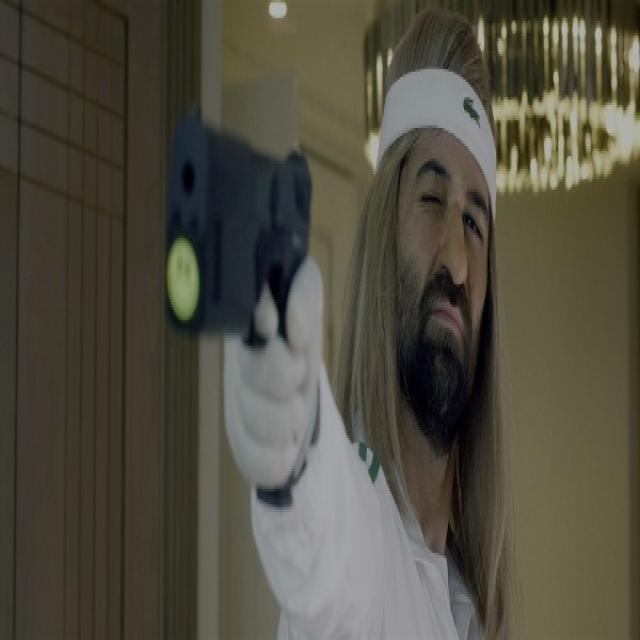weapons: (157, 26, 329, 485)
